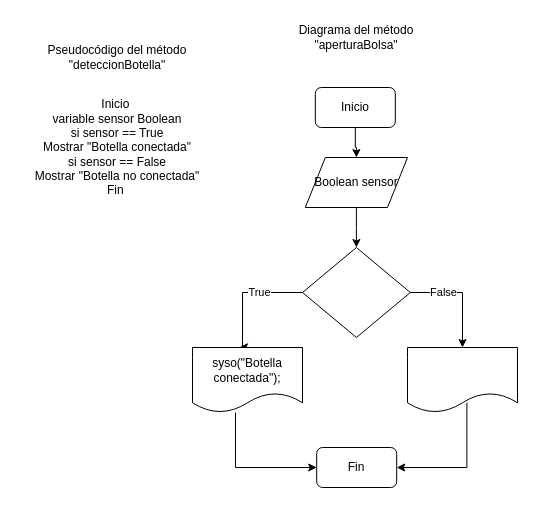
The diagram is 535 pixels wide and 505 high, and some of its shapes have lost their labels. The shapes that lost their labels are listed below. From the top down, each one's centre as x and y in pixels, then its label:
[356,292]: if (sensor == True)
[462,379]: syso("Botella no conectada");
